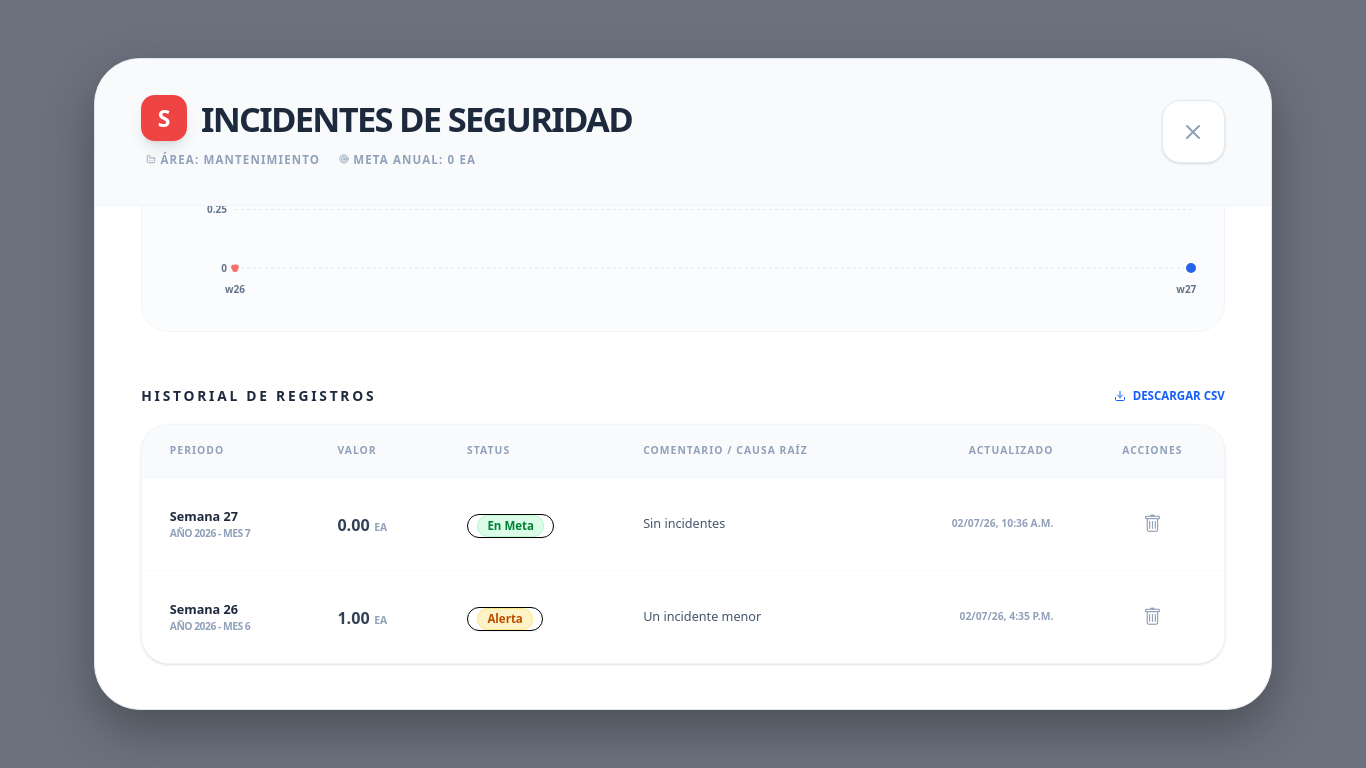
Test: KPIDetailsModal - Pruebas de Eliminación de Histórico y Robustez › debería manejar el escenario fail-over mostrando una alerta de error temporal si la API falla
This screenshot has width=1366, height=768.
(page scrolled)
Click the button titled "Eliminar registro" in the row of "0.00": click(1152, 524) x1=1134 y1=501 x2=1171 y2=547
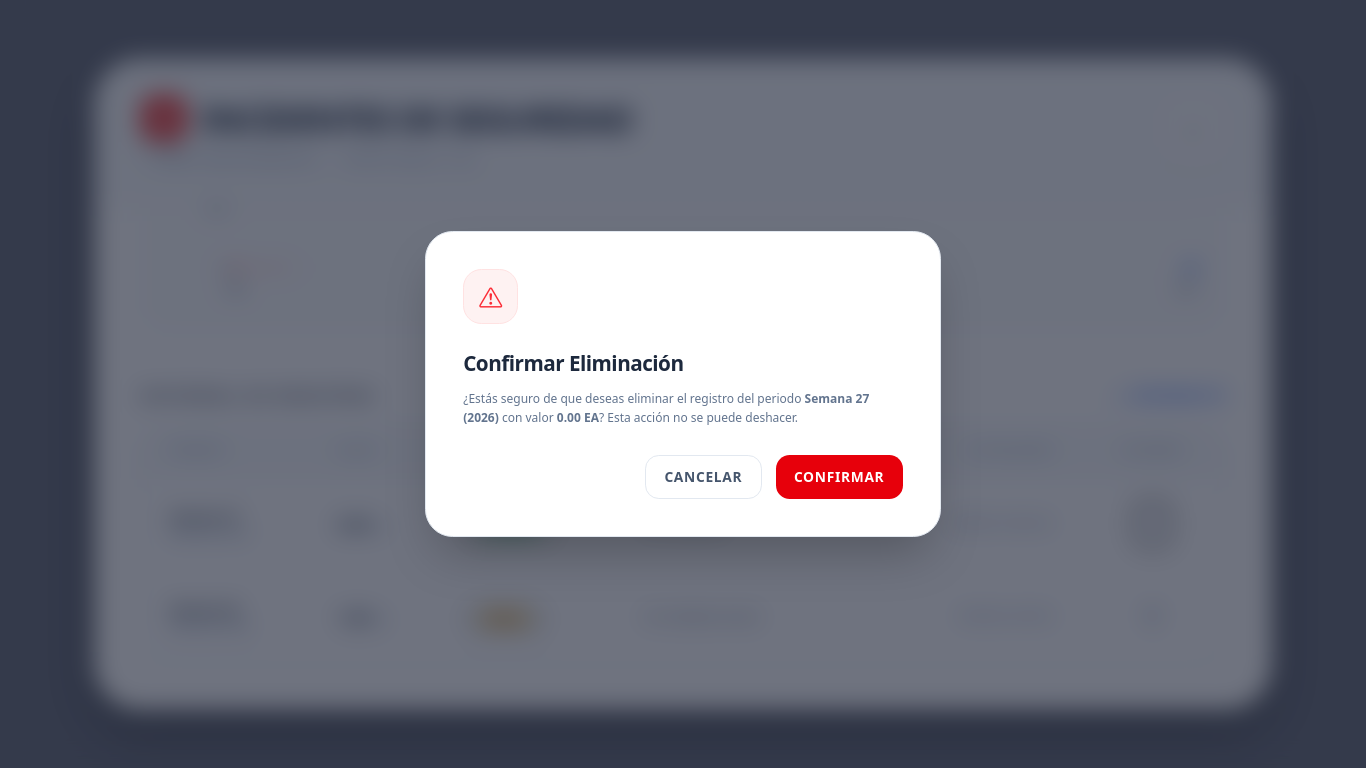
Click the button "Confirmar": click(839, 477) x1=776 y1=455 x2=903 y2=499
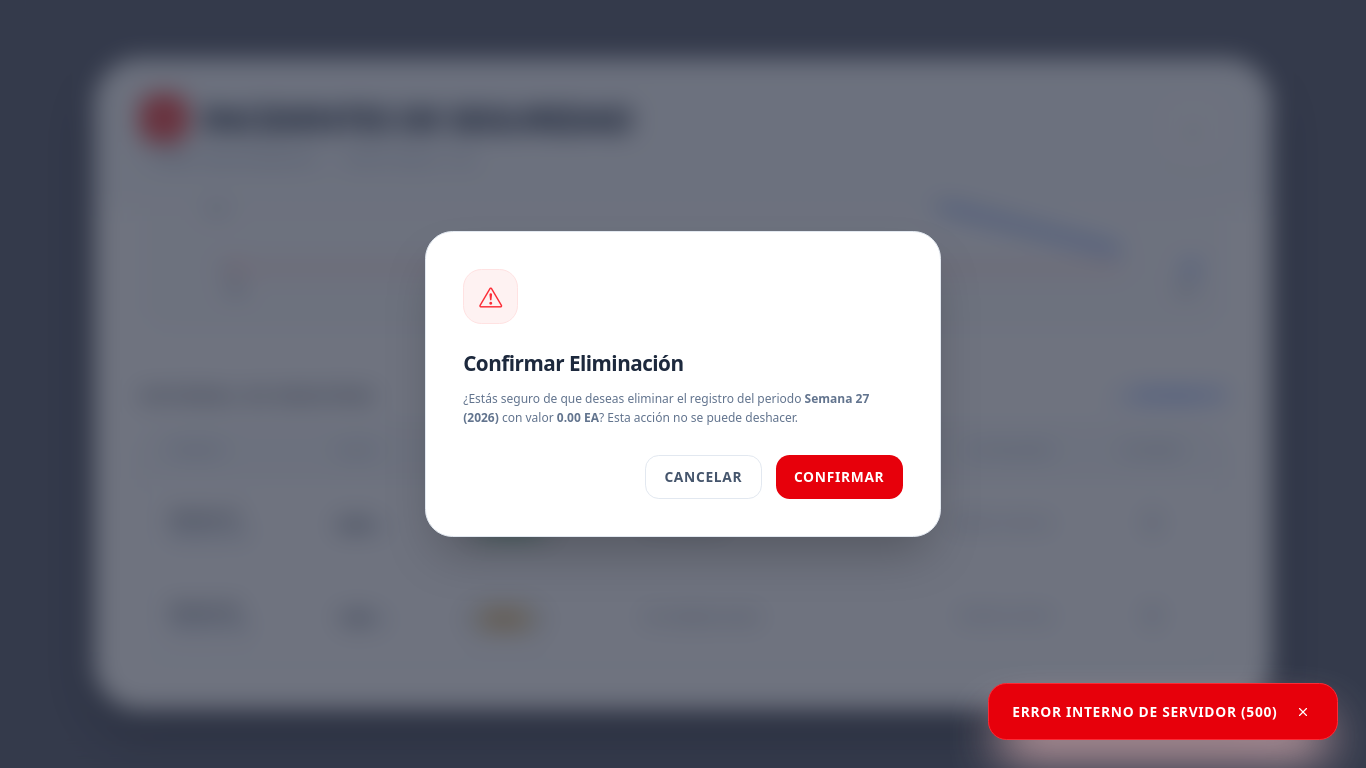
Now the heading "Confirmar Eliminación" is shown, box x1=463 y1=349 x2=684 y2=377
Now the text "Error interno de servidor (500)" is shown, box x1=1012 y1=702 x2=1277 y2=721
